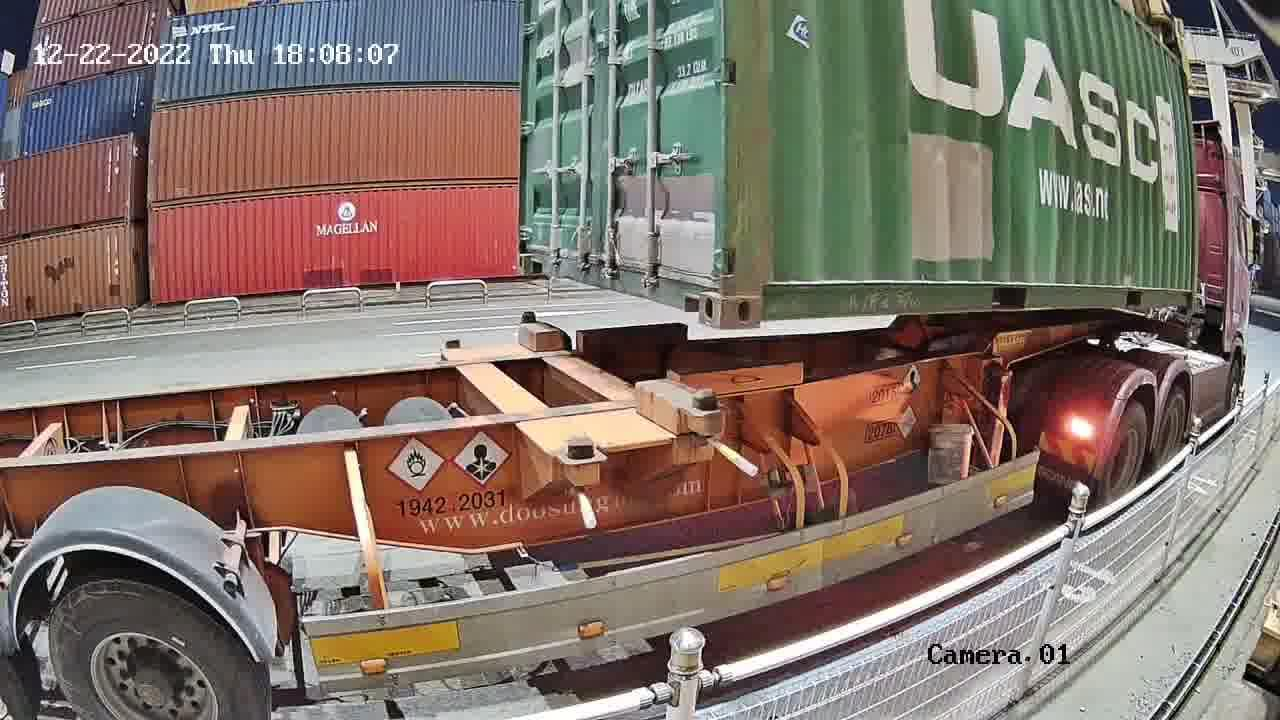Chassis: (514, 321, 723, 432)
Cone: (691, 391, 722, 454), (518, 308, 544, 325)
Hole_L: (720, 257, 796, 330), (516, 234, 556, 277)
Hole_R: (671, 257, 721, 331)
Tire: (1103, 406, 1148, 508), (1152, 393, 1189, 471)
